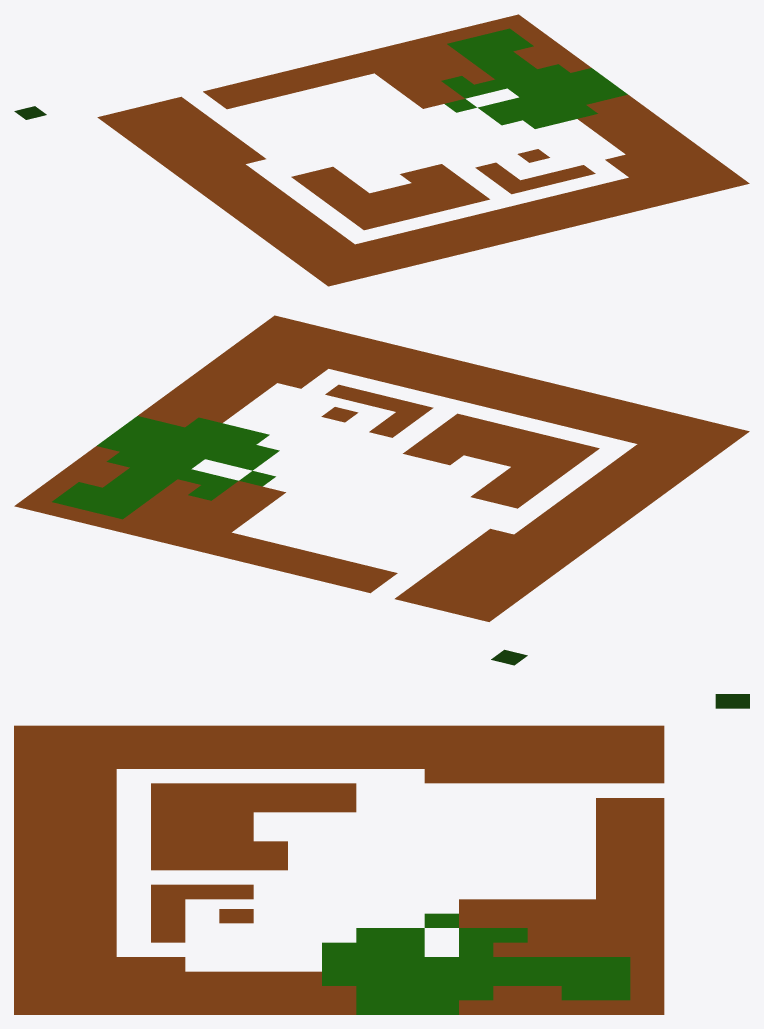
File: Terrain_Part_Plane_1.glb
The picture shows the model from 3 angles, top to bottom: view 1: azimuth 30°, elevation 25°; view 2: azimuth 150°, elevation 25°; view 3: azimuth 270°, elevation 25°; orthographic projection. The views are drawn at different scales.
Parts seen in each view (by area): view 1: Terrain_Part_Plane_1.003; view 2: Terrain_Part_Plane_1.003; view 3: Terrain_Part_Plane_1.003.
Part boxes in pixels (x1,y1,x2,y2): Terrain_Part_Plane_1.003: (14,14,749,286); Terrain_Part_Plane_1.003: (14,315,749,665); Terrain_Part_Plane_1.003: (14,694,749,1014).
Bounding box in the file's own units: 450 × 6 × 430.
